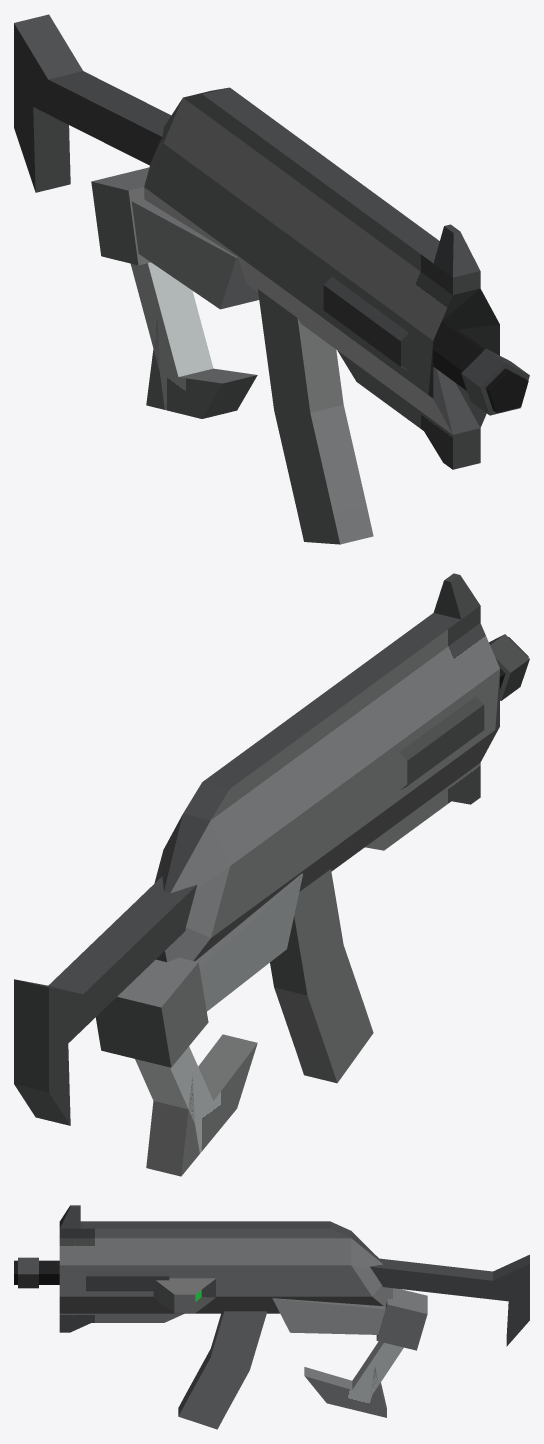
Rendered from smg.obj.
3 renders of one model, top to bottom at view 1: azimuth 30°, elevation 25°; view 2: azimuth 150°, elevation 25°; view 3: azimuth 270°, elevation 25°, orthographic. The views are drawn at different scales.
Visible parts, largest first — view 1: SMG; view 2: SMG; view 3: SMG.
Part boxes in pixels (<box>): SMG: <box>14,14,529,544</box>; SMG: <box>14,573,529,1176</box>; SMG: <box>14,1205,529,1429</box>.
Bounding box in the file's own units: 0.2562 × 0.725 × 1.55.
1 material, 1 textured.
